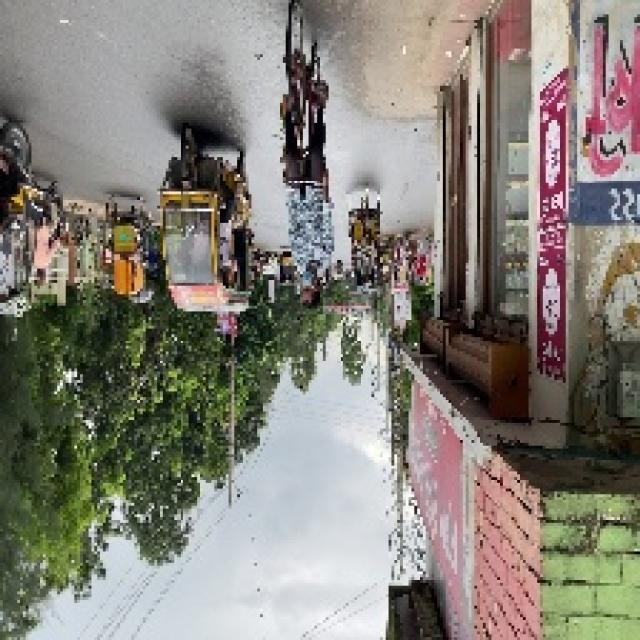rickshaw: (161, 127, 252, 320), (107, 190, 151, 302), (347, 180, 384, 296), (276, 253, 296, 294)
